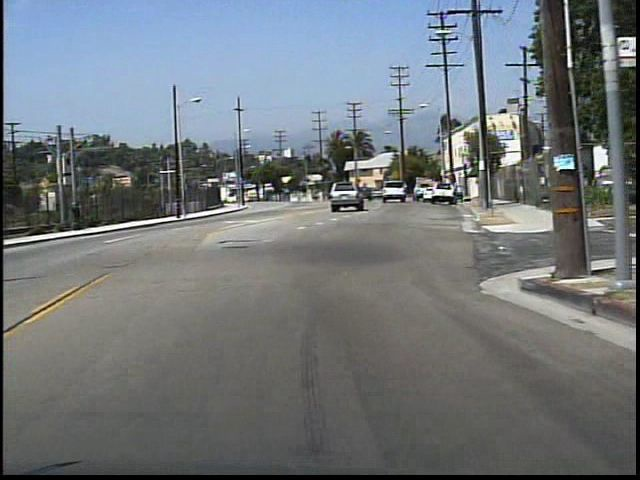person: (73, 199, 88, 233)
